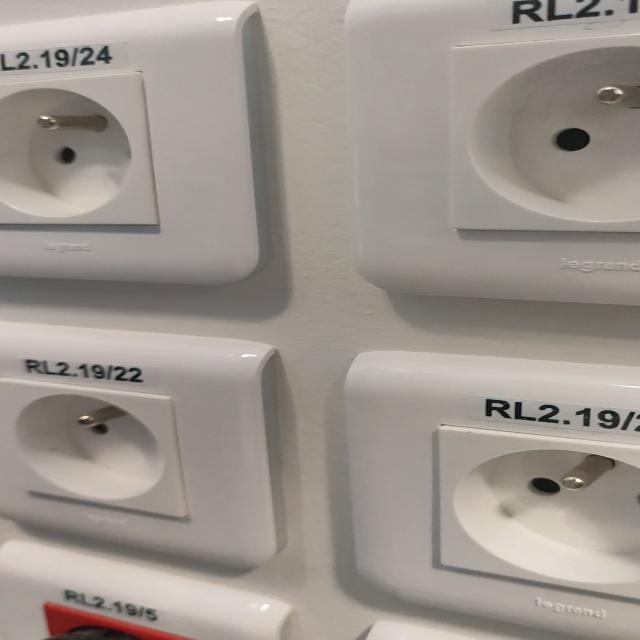house plug: (447, 33, 640, 233), (435, 424, 640, 600), (1, 378, 187, 517), (0, 72, 160, 225)
